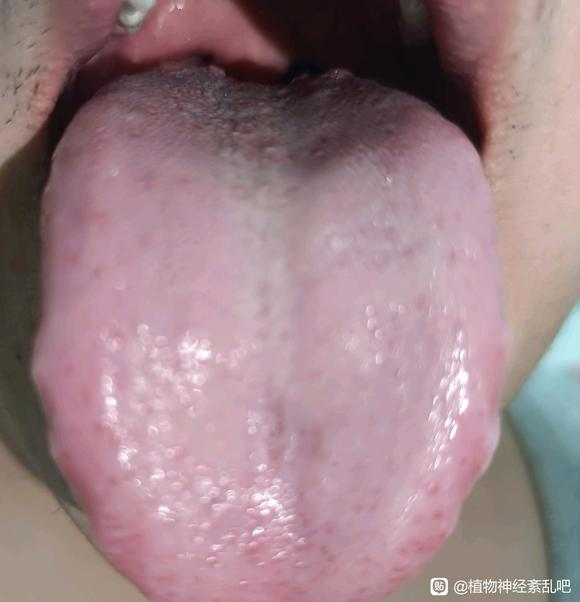baitaishe: (31, 60, 505, 602)
hongdianshe: (423, 476, 442, 498), (429, 508, 445, 522)
